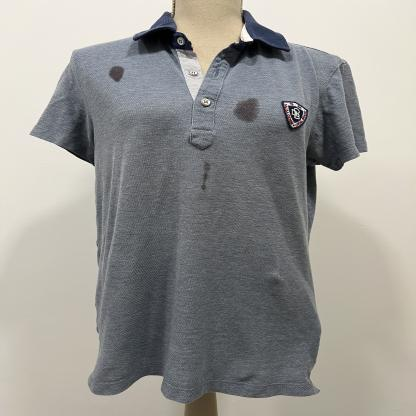stain: (230, 96, 263, 125), (199, 158, 213, 192), (107, 65, 127, 84)
